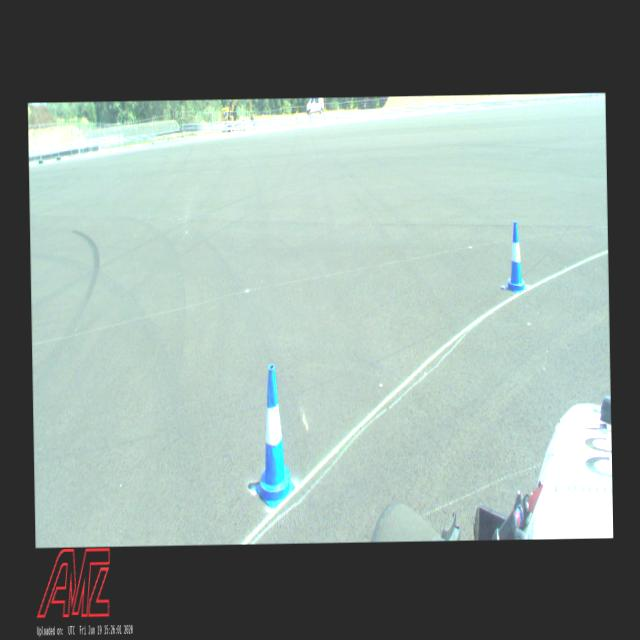blue_cone: (253, 364, 296, 510), (503, 220, 528, 294)
